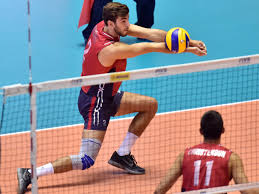ball: (164, 26, 190, 53)
